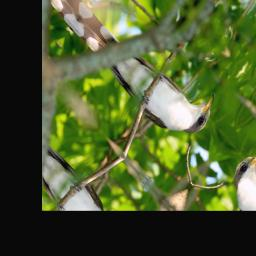Cuckoo: (68, 0, 224, 159)
